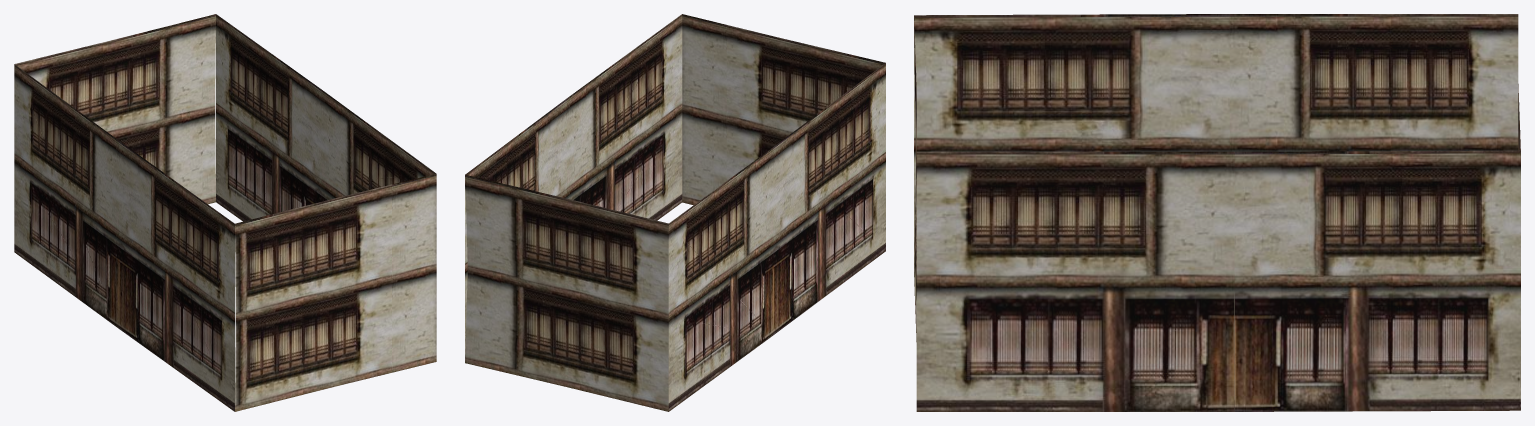
The picture shows the model from 3 angles, left to right: view 1: azimuth 30°, elevation 25°; view 2: azimuth 150°, elevation 25°; view 3: azimuth 270°, elevation 25°; orthographic projection. The views are drawn at different scales.
Parts seen in each view (by area): view 1: Box47; view 2: Box47; view 3: Box47.
Part boxes in pixels (x1,y1,x2,y2): Box47: (14, 14, 436, 411); Box47: (465, 14, 885, 411); Box47: (914, 14, 1520, 411).
Size of the model in its own units: 159 by 140 by 296.
